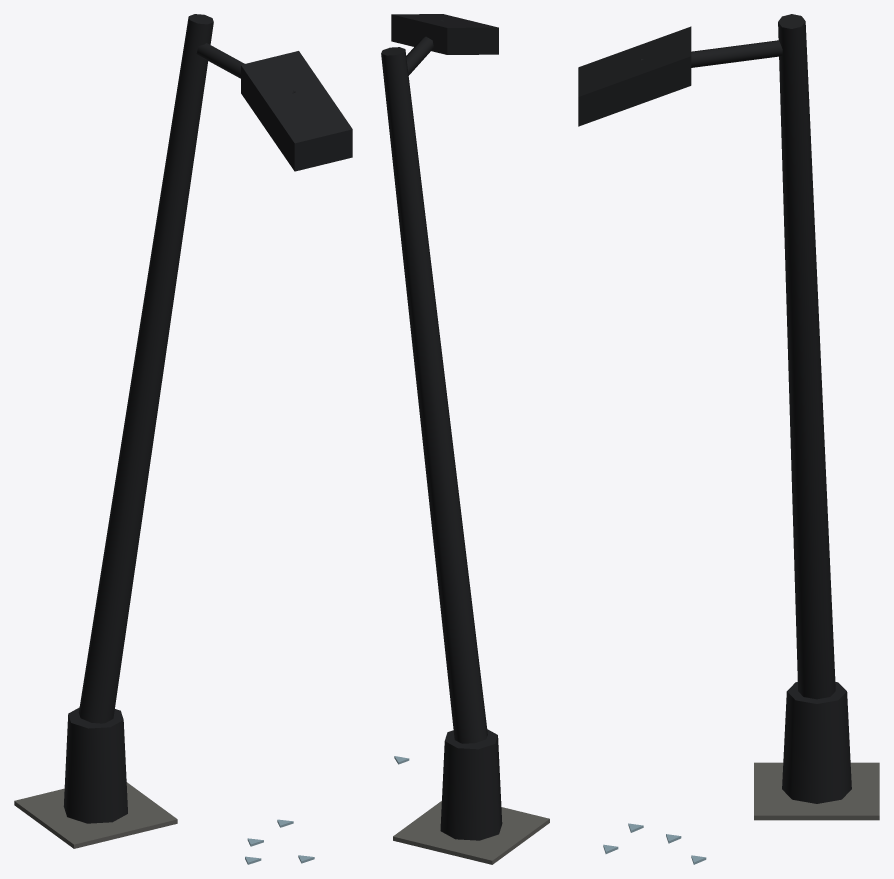
File: street_lamp_broken.glb
3 renders of one model, left to right at view 1: azimuth 30°, elevation 25°; view 2: azimuth 150°, elevation 25°; view 3: azimuth 270°, elevation 25°, orthographic. The views are drawn at different scales.
Visible parts, largest first — view 1: street_lamp_broken; view 2: street_lamp_broken; view 3: street_lamp_broken.
Boxes of the visible parts, box(x1,y1,x2,y2) form: street_lamp_broken: box(14, 14, 352, 864); street_lamp_broken: box(381, 14, 549, 864); street_lamp_broken: box(578, 14, 879, 864).
Bounding box in the file's own units: 0.94 × 3.61 × 1.2.
Materials: 1 (1 with a texture image).
